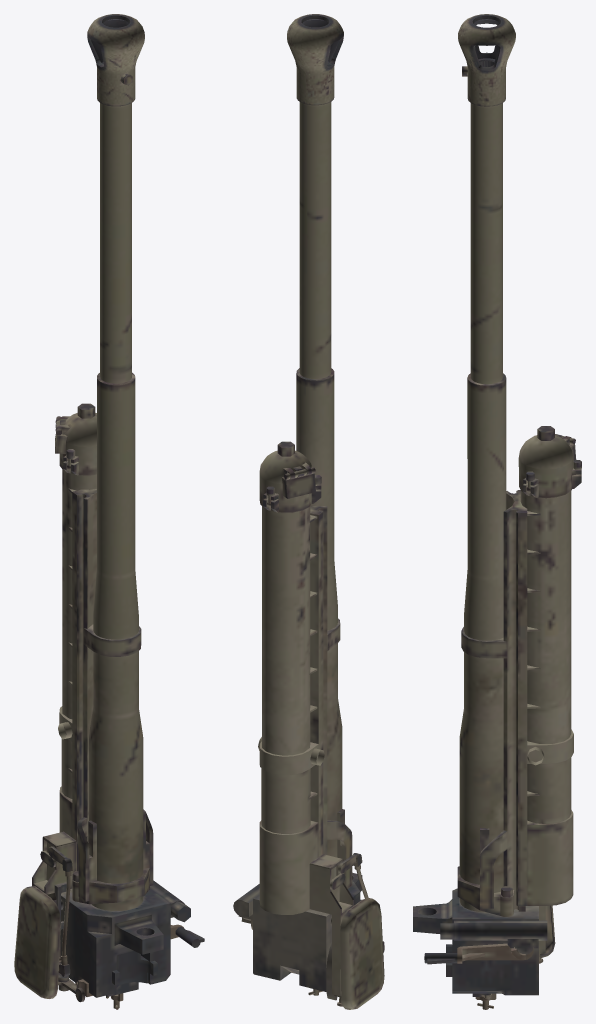
Rendered from Gun_04.glb.
3 views of the same model, side by side, from view 1: azimuth 30°, elevation 25°; view 2: azimuth 150°, elevation 25°; view 3: azimuth 270°, elevation 25° (orthographic).
Visible parts, largest first — view 1: set_0_group_0; view 2: set_0_group_0; view 3: set_0_group_0.
Part boxes in pixels (<box>): set_0_group_0: <box>14,14,204,1009</box>; set_0_group_0: <box>233,14,384,1009</box>; set_0_group_0: <box>413,14,581,1009</box>.
Bounding box in the file's own units: 0.4384 × 3.2 × 0.4958.
Materials: 1 (1 with a texture image).
